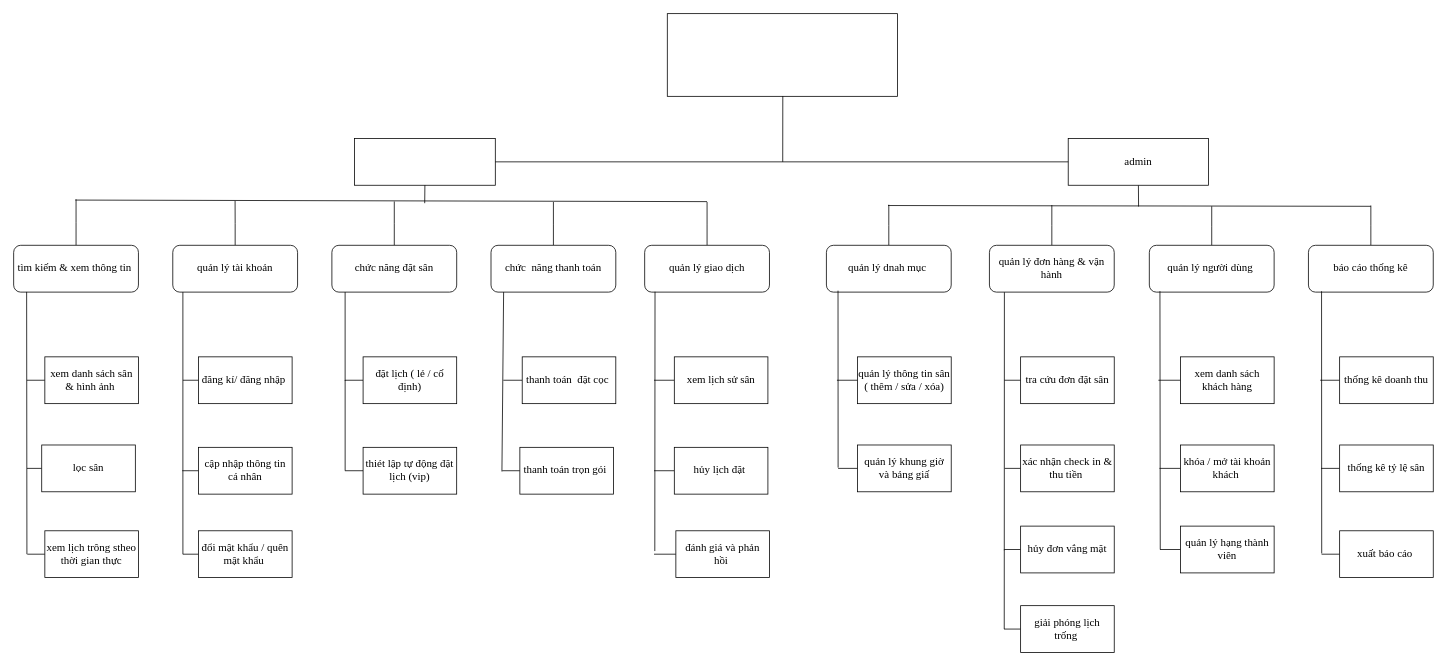
Image size: 1447x666. Some labels were removed from this diagram. The shapes that lost their labels are listed below. From the top down, each one's centre as x and y in pixels, then its label:
pixel 782 54: Hệ thống quản lý sân pickleball
pixel 424 161: khách hàng
